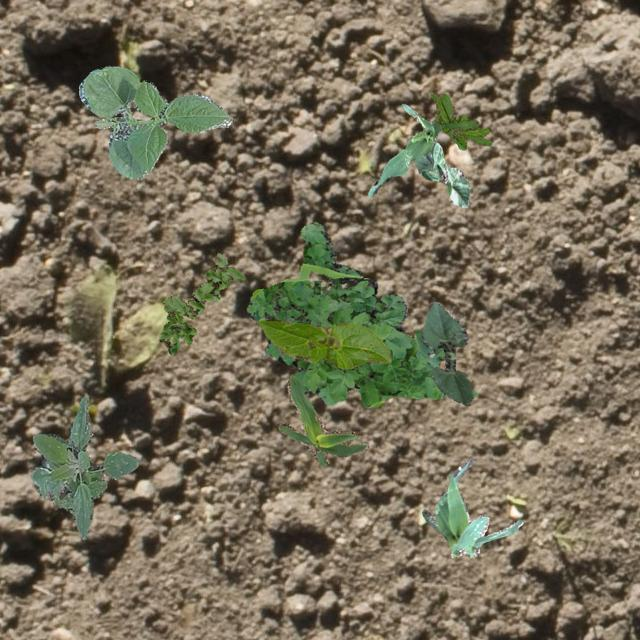crop: (77, 64, 232, 178), (29, 396, 138, 538), (422, 458, 522, 558), (276, 374, 368, 464), (366, 103, 441, 195), (258, 318, 390, 368), (421, 300, 472, 404), (414, 140, 469, 207)
weed: (246, 220, 477, 407), (158, 252, 244, 354), (430, 92, 490, 148)
